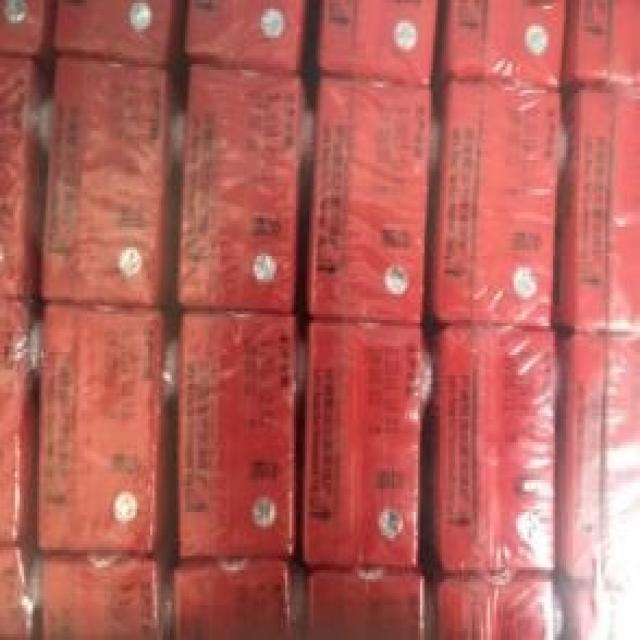box: (42, 58, 175, 308), (38, 306, 171, 554), (432, 81, 563, 329), (177, 65, 304, 313), (308, 78, 432, 325), (436, 325, 556, 573), (304, 321, 423, 569), (178, 313, 295, 555), (553, 89, 638, 336), (558, 332, 638, 585), (0, 52, 50, 297), (438, 0, 567, 91), (319, 0, 439, 87), (41, 556, 168, 637), (0, 297, 39, 544), (174, 559, 292, 637), (186, 2, 306, 78), (52, 1, 174, 67), (307, 572, 425, 637), (438, 576, 553, 637), (563, 2, 638, 90), (1, 544, 35, 637), (0, 3, 57, 53)
